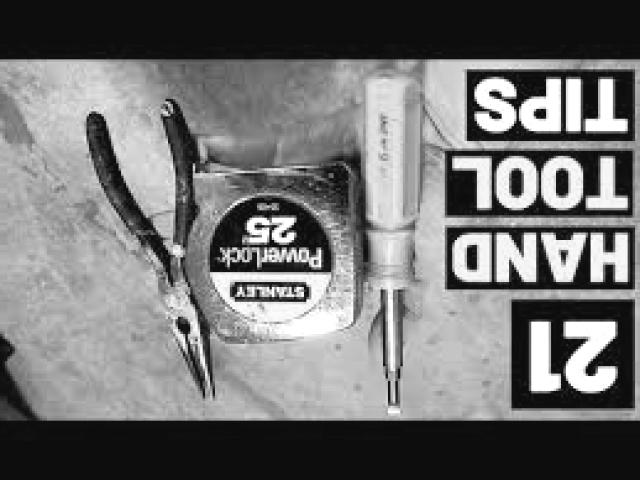Needle-nose pliers: (86, 100, 211, 399)
Screwdriver: (362, 70, 422, 415)
Tape measure: (188, 164, 358, 342)
